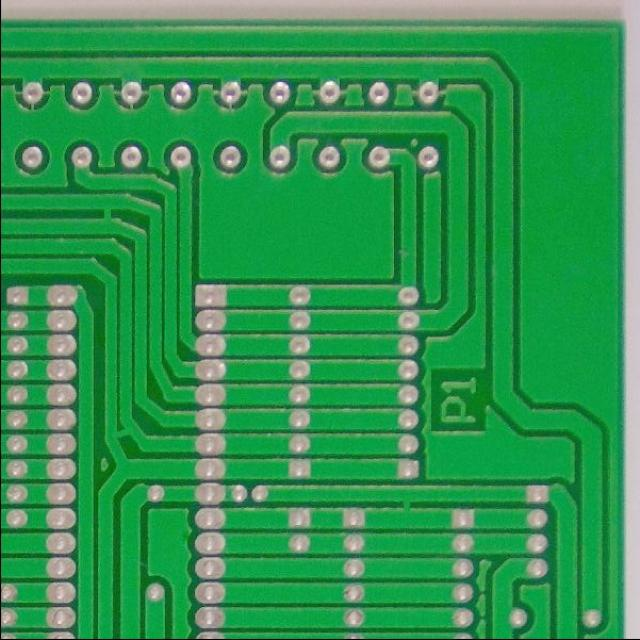short: (84, 192, 122, 238), (106, 417, 142, 452), (387, 492, 422, 523)
